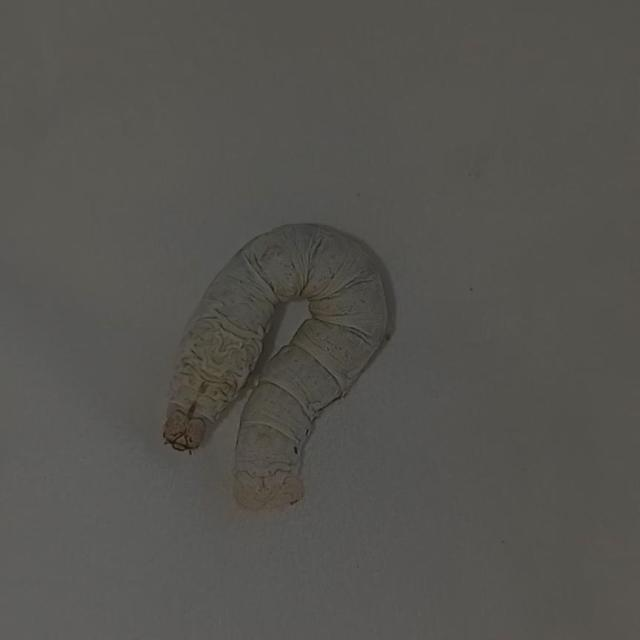Healthy: (144, 199, 404, 540)
